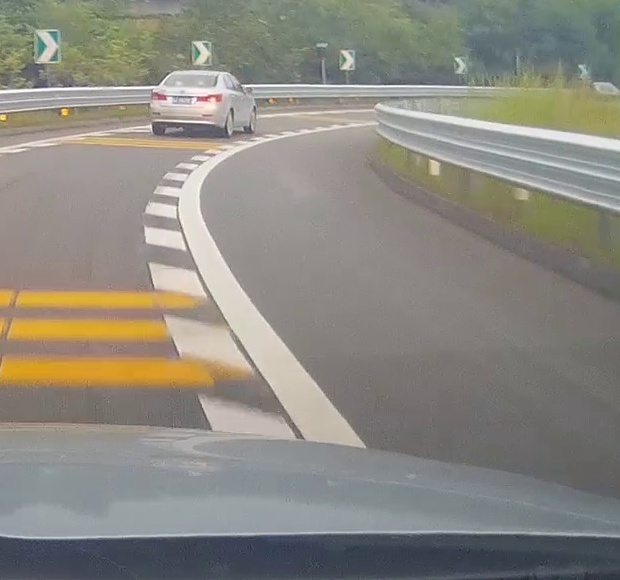L_light: (151, 91, 167, 101)
R_light: (197, 93, 222, 102)
T_light: (185, 74, 195, 77)
day-right: (150, 70, 225, 138)
